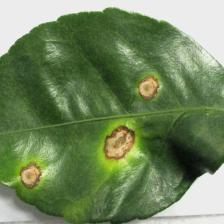canker: (1, 71, 168, 207)
